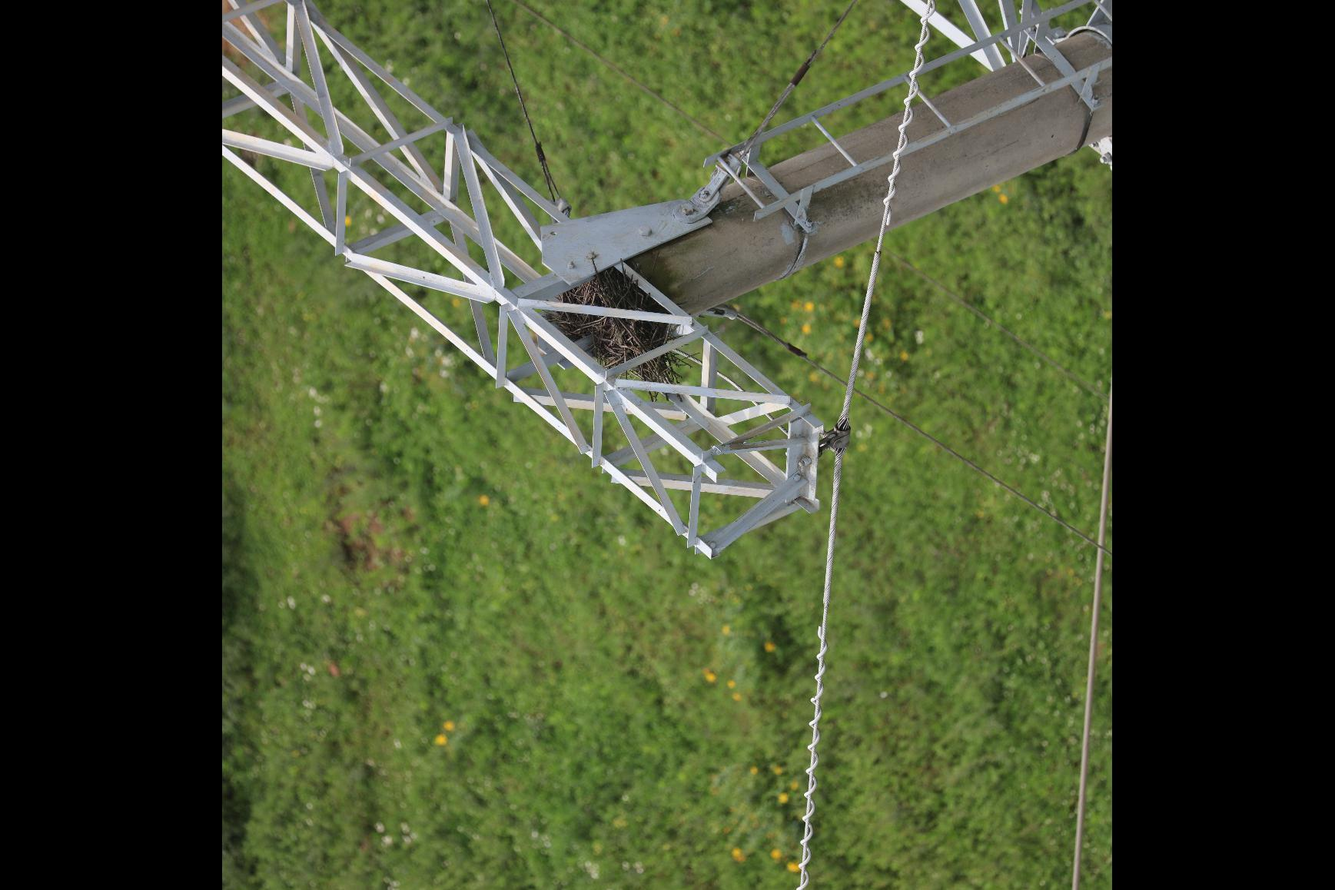nest: (547, 264, 686, 390)
